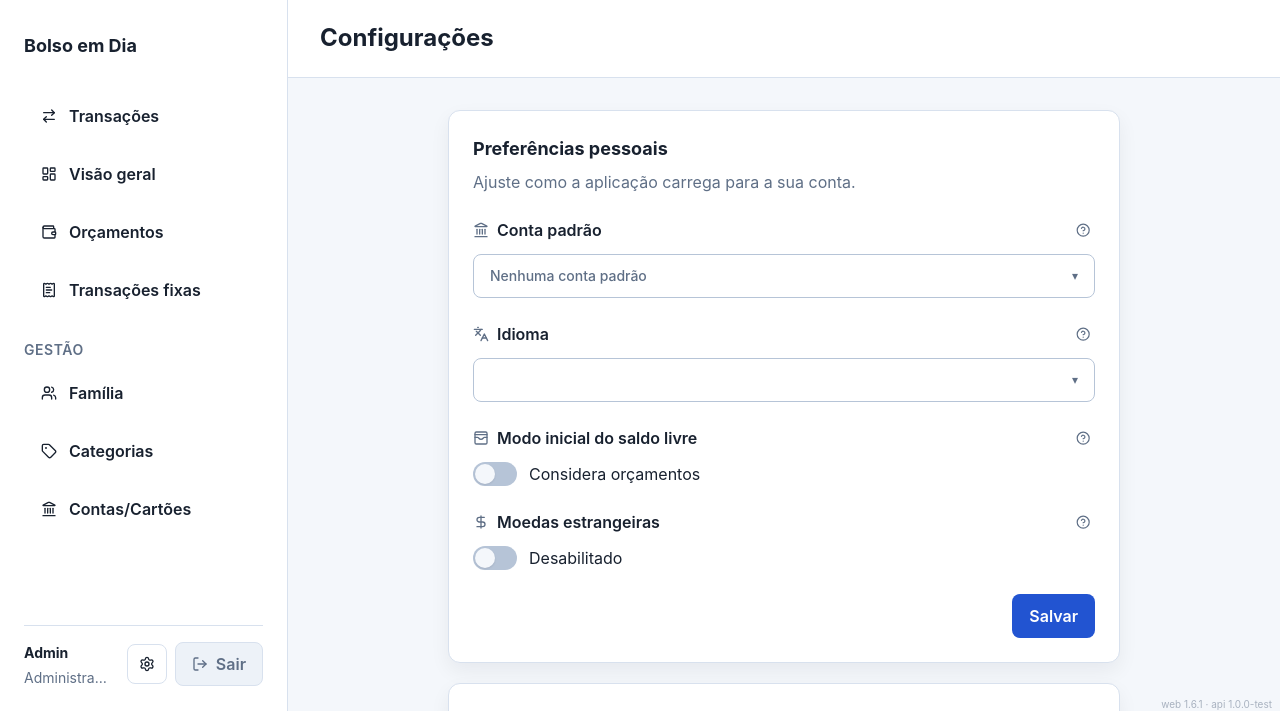
Test: UserSettingsPage › saves null as the default account when no account is selected
Expected: the heading "Preferências pessoais" is shown, 473,138 -> 668,159
Click the button "Salvar". click: (1054,616)
box: 1012,594 -> 1095,638
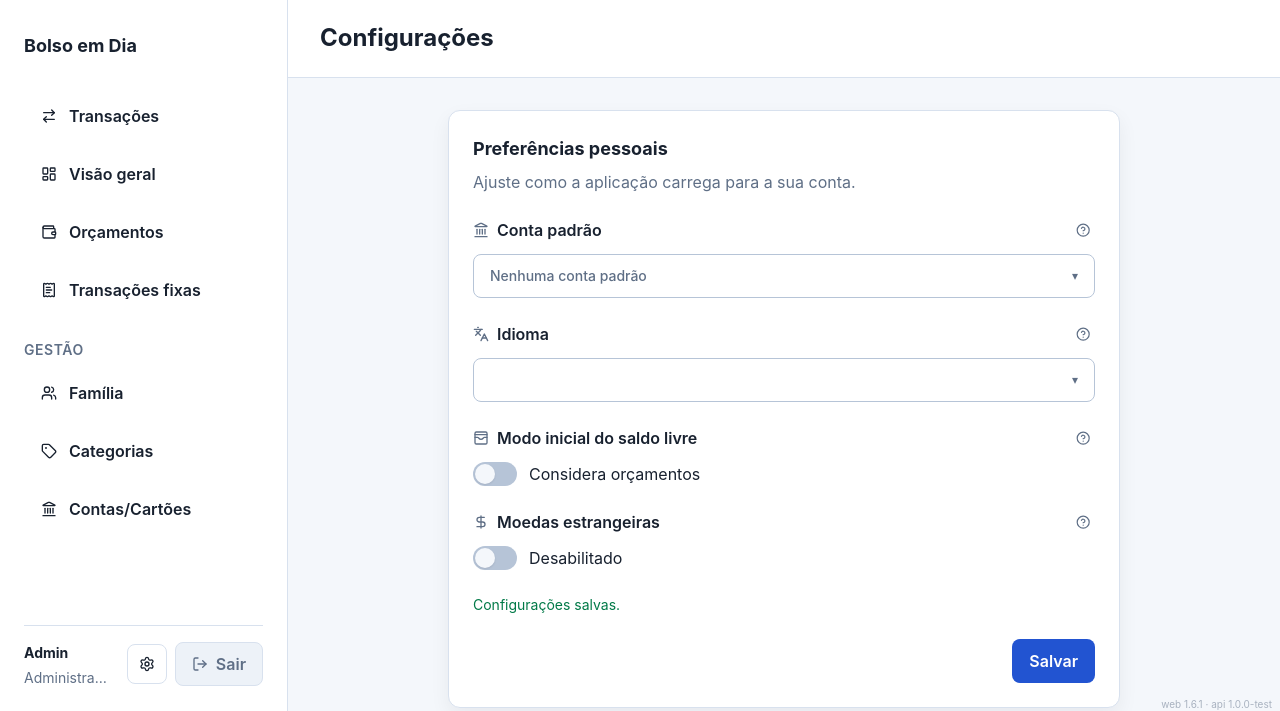
Expected: the text "Configurações salvas." is shown, 473,596 -> 620,613
